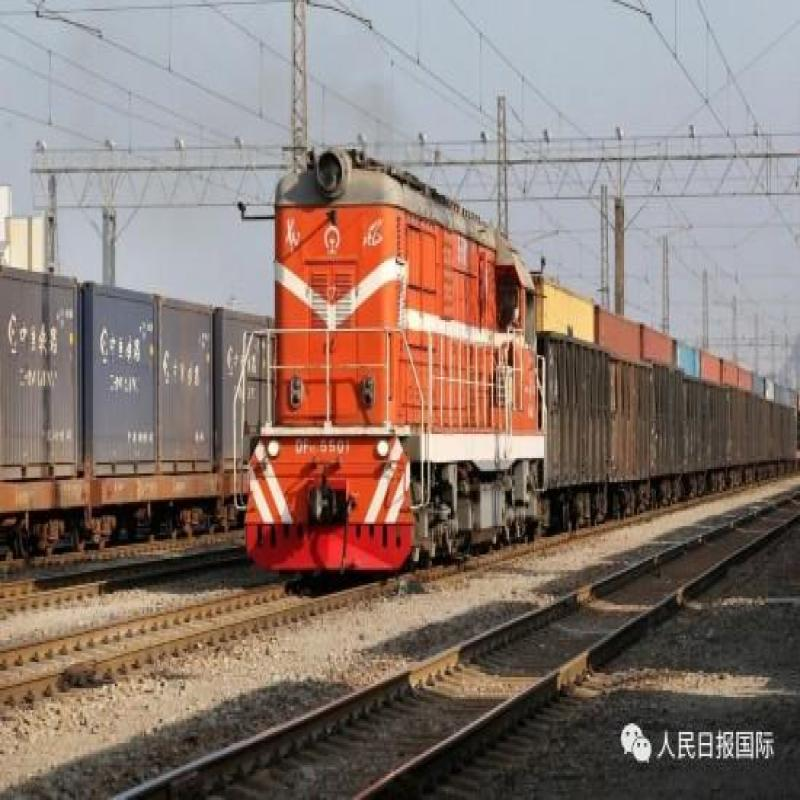train: (220, 135, 550, 584)
